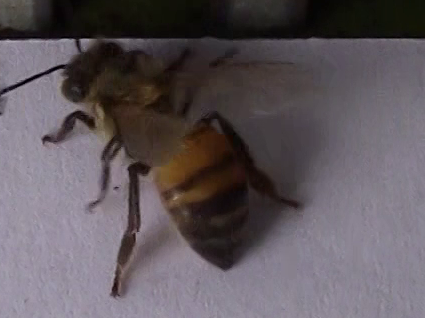Healthy: (1, 40, 320, 300)
